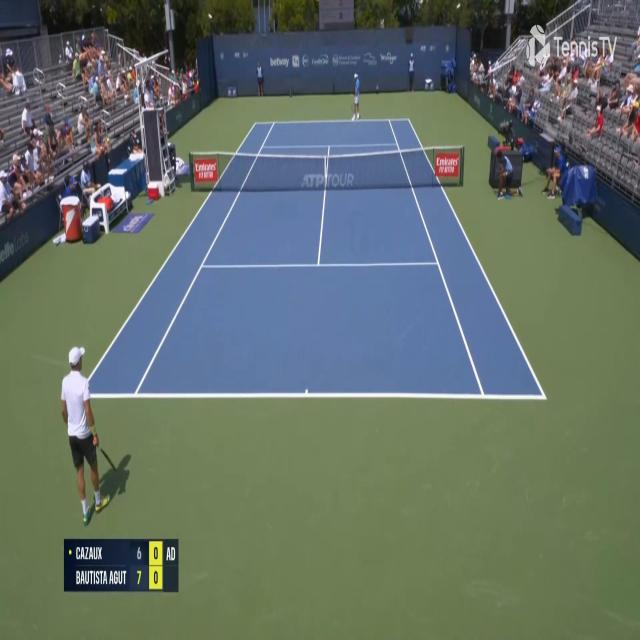tennis-player: (58, 334, 134, 522), (351, 71, 362, 123)
